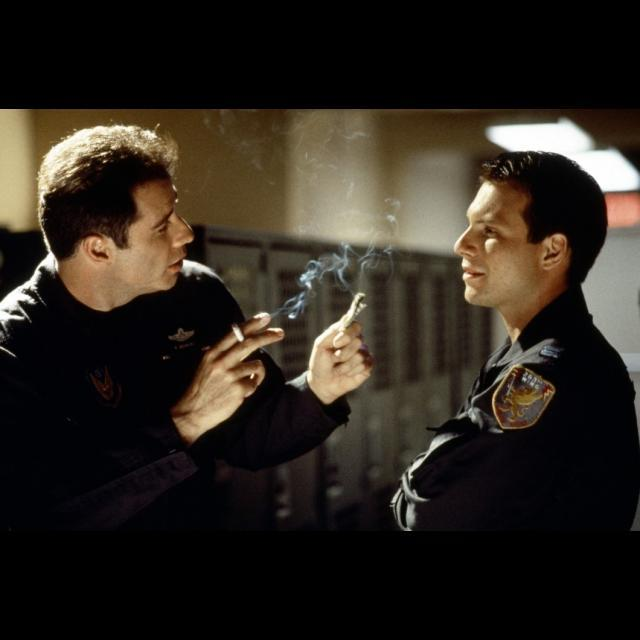rokok: (228, 320, 246, 346)
